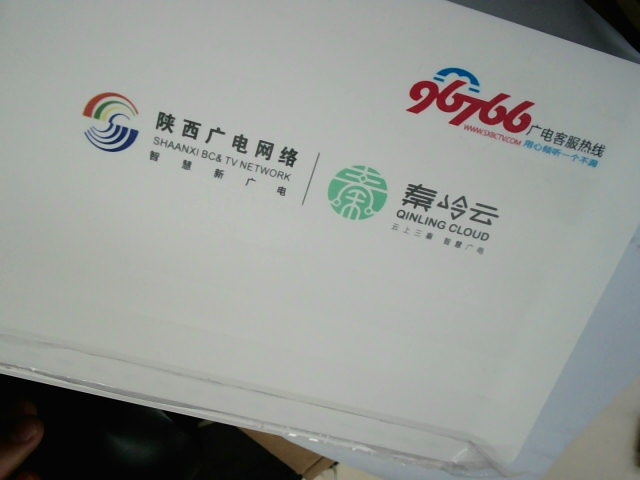AE_QinLing: (326, 160, 501, 259)
